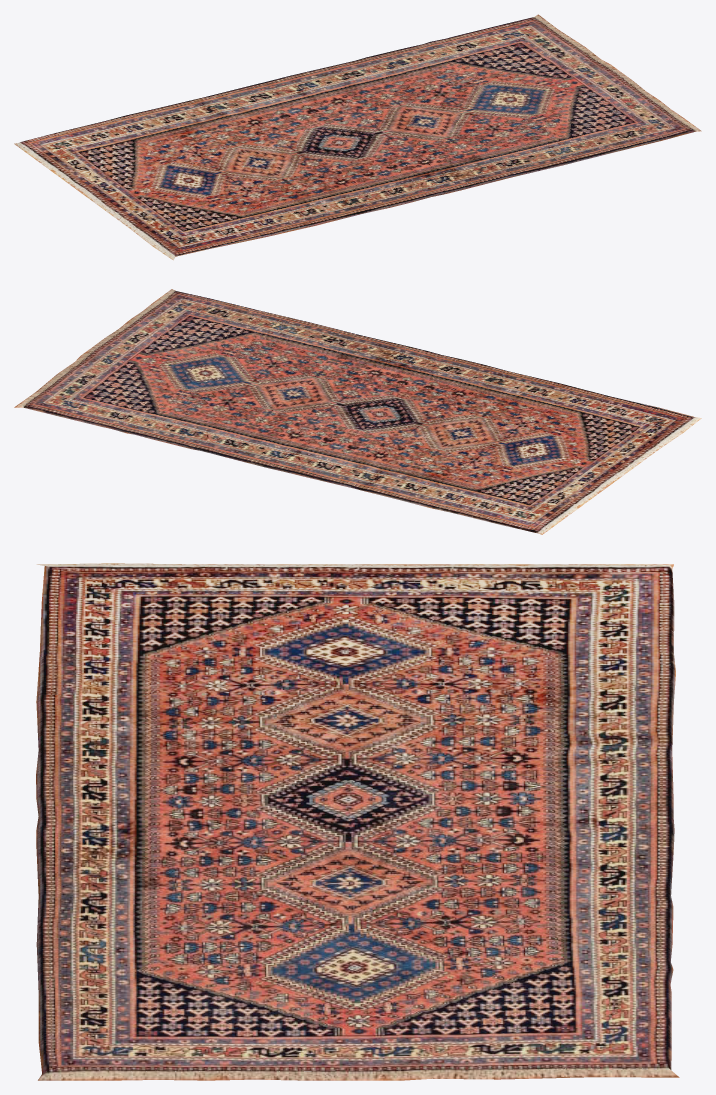
File: carpet_type_1.glb
3 views of the same model, one above another, from view 1: azimuth 30°, elevation 25°; view 2: azimuth 150°, elevation 25°; view 3: azimuth 270°, elevation 25° (orthographic). The views are drawn at different scales.
Visible parts, largest first — view 1: Plane.002; view 2: Plane.002; view 3: Plane.002.
Boxes of the visible parts, bbox=[...] form: Plane.002: bbox=[14, 14, 701, 260]; Plane.002: bbox=[14, 289, 701, 534]; Plane.002: bbox=[36, 563, 679, 1080].
Bounding box in the file's own units: 1.94 × 0.00451 × 1.02.
Materials: 2 (2 with a texture image).
